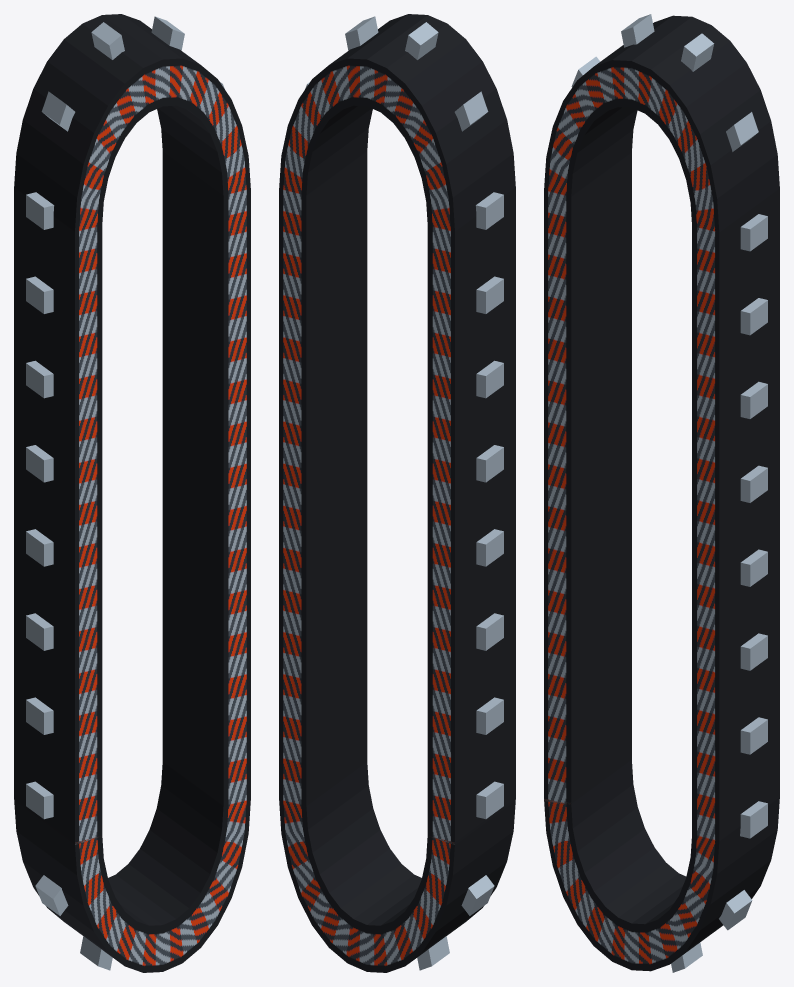
File: chainsaw_chain_1.obj
3 renders of one model, left to right at view 1: azimuth 30°, elevation 25°; view 2: azimuth 150°, elevation 25°; view 3: azimuth 330°, elevation 25°, orthographic.
Parts seen in each view (by area): view 1: ChainsawChainFrame_1; view 2: ChainsawChainFrame_1; view 3: ChainsawChainFrame_1.
Part boxes in pixels (x1,y1,x2,y2): ChainsawChainFrame_1: [14, 14, 250, 972]; ChainsawChainFrame_1: [279, 14, 515, 972]; ChainsawChainFrame_1: [544, 14, 779, 972].
Size of the model in its own units: 0.6481 by 2.98 by 0.35.
2 materials, 2 textured.
